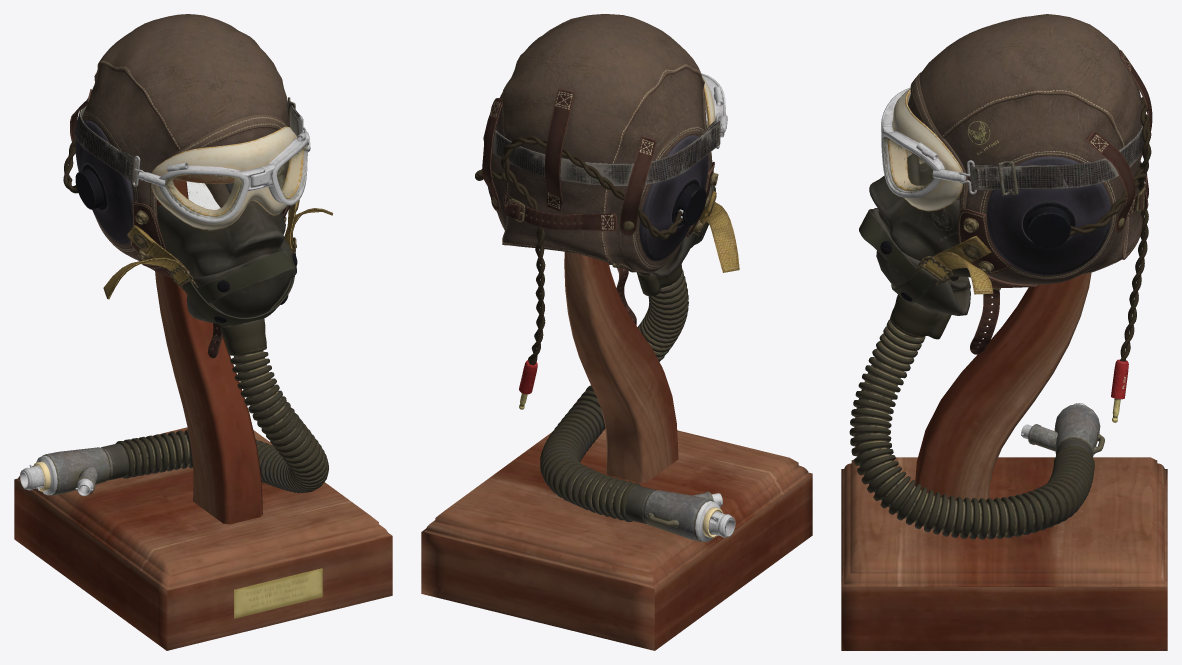
The model's file is helmet.glb.
3 views of the same model, side by side, from view 1: azimuth 30°, elevation 25°; view 2: azimuth 150°, elevation 25°; view 3: azimuth 270°, elevation 25° (orthographic). The views are drawn at different scales.
Parts seen in each view (by area): view 1: RubberWood_low, LeatherParts_low, MetalParts_low, GlassPlastic_low, Hose_low, Lenses_low; view 2: RubberWood_low, LeatherParts_low, Hose_low, MetalParts_low, GlassPlastic_low; view 3: RubberWood_low, LeatherParts_low, Hose_low, GlassPlastic_low, MetalParts_low, Lenses_low.
Part boxes in pixels (bbox=[...]): RubberWood_low: bbox=[14, 100, 392, 650]; LeatherParts_low: bbox=[70, 14, 290, 358]; MetalParts_low: bbox=[20, 97, 322, 618]; GlassPlastic_low: bbox=[75, 120, 304, 244]; Hose_low: bbox=[115, 346, 328, 493]; Lenses_low: bbox=[165, 144, 307, 218]; RubberWood_low: bbox=[421, 114, 812, 650]; LeatherParts_low: bbox=[482, 14, 714, 325]; Hose_low: bbox=[540, 270, 688, 521]; MetalParts_low: bbox=[492, 73, 735, 541]; GlassPlastic_low: bbox=[487, 76, 715, 261]; RubberWood_low: bbox=[841, 97, 1167, 650]; LeatherParts_low: bbox=[908, 14, 1152, 354]; Hose_low: bbox=[849, 317, 1094, 539]; GlassPlastic_low: bbox=[887, 88, 1110, 275]; MetalParts_low: bbox=[880, 87, 1146, 457]; Lenses_low: bbox=[883, 136, 933, 193].
Bounding box in the file's own units: 1.08 × 2.12 × 1.1.
6 materials, 6 textured.
